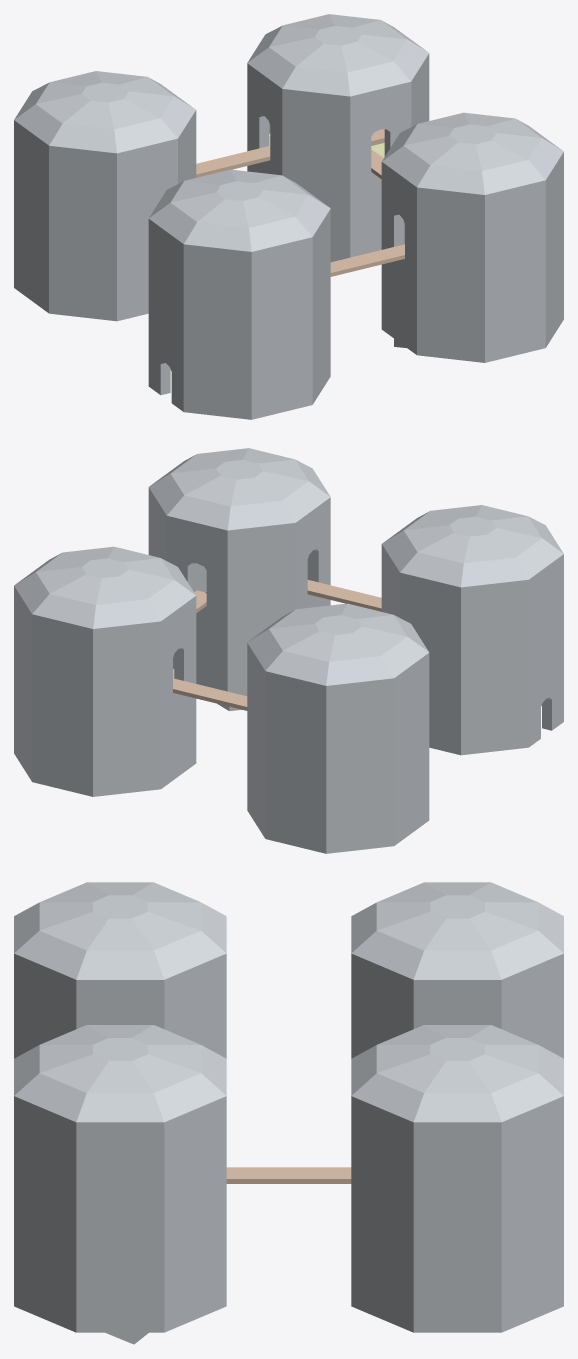
Rendered from Silos.fbx.
The picture shows the model from 3 angles, top to bottom: view 1: azimuth 30°, elevation 25°; view 2: azimuth 150°, elevation 25°; view 3: azimuth 270°, elevation 25°; orthographic projection. The views are drawn at different scales.
Parts seen in each view (by area): view 1: Silos; view 2: Silos; view 3: Silos.
Part boxes in pixels (x1,y1,x2,y2): Silos: [14, 14, 563, 419]; Silos: [14, 448, 563, 853]; Silos: [14, 882, 563, 1344].
Bounding box in the file's own units: 26.42 × 13.82 × 26.42.
